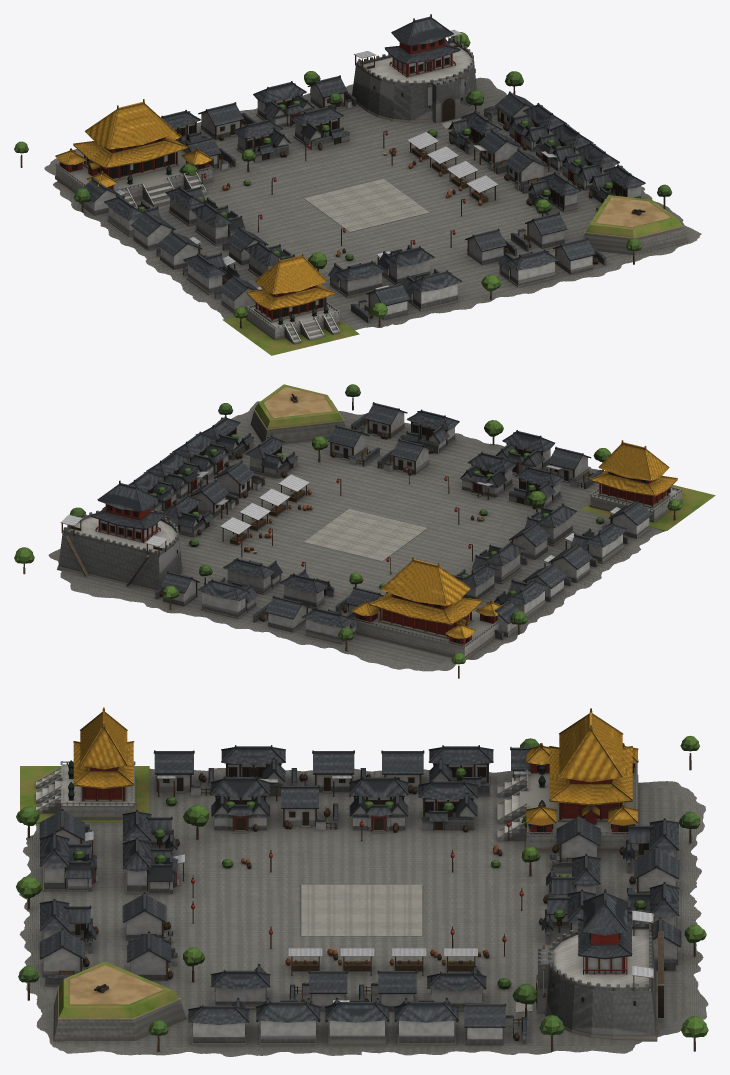
The model's file is gunpowder-town-big-a-sinic.glb.
3 views of the same model, one above another, from view 1: azimuth 30°, elevation 25°; view 2: azimuth 150°, elevation 25°; view 3: azimuth 270°, elevation 25° (orthographic). The views are drawn at different scales.
Visible parts, largest first — view 1: LOD0; view 2: LOD0; view 3: LOD0.
Boxes of the visible parts, bbox=[...] form: LOD0: bbox=[14, 14, 701, 355]; LOD0: bbox=[14, 384, 715, 678]; LOD0: bbox=[16, 707, 708, 1056].
Size of what is drawn, in the model's own units: 8.05 by 1.45 by 8.12.
3 materials, 3 textured.
